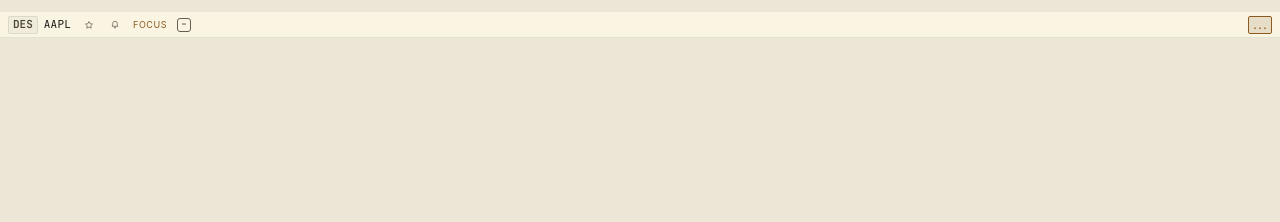
Test: PaneChrome — link-group badge › opening the ⋯ menu closes the link menu (only one popup at a time)
The width and height of the screenshot is (1280, 222).
Click the button with test id "pane-chrome-link-badge" at (184, 24), box x1=177 y1=18 x2=191 y2=32
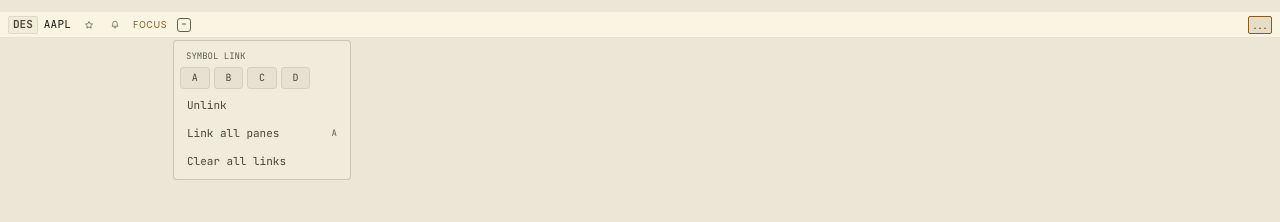
Expected: the menu with test id "pane-chrome-link-menu" is shown, x1=173 y1=40 x2=351 y2=180
Click the button named "Pane actions" at (1260, 25), box x1=1248 y1=16 x2=1272 y2=34
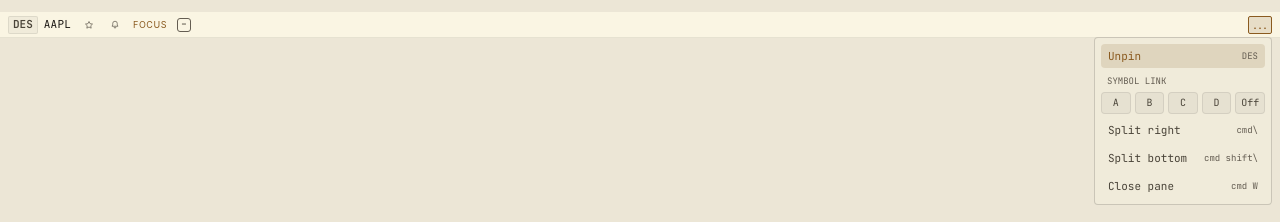
Expected: the menu with test id "pane-chrome-link-menu" is gone
Expected: the menu with test id "pane-chrome-menu" is shown, x1=1094 y1=37 x2=1272 y2=205
